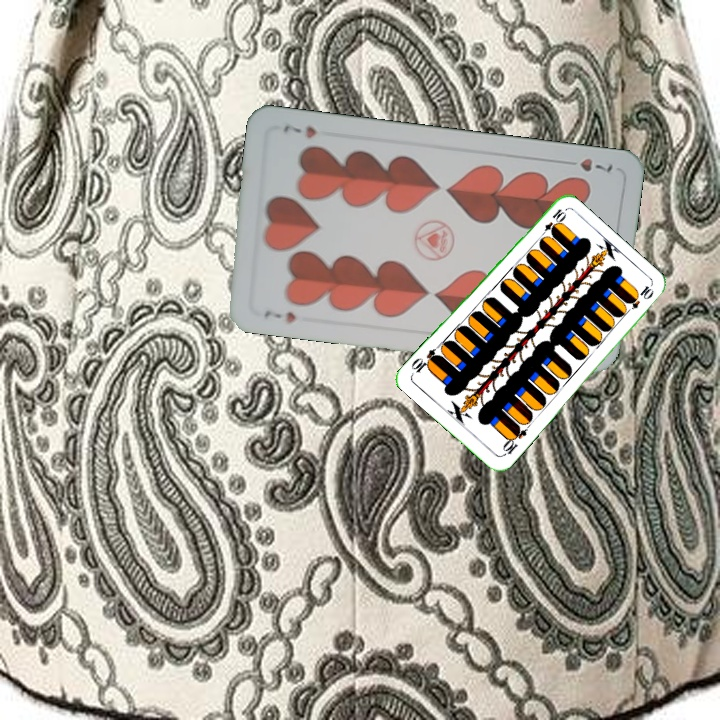E10: (536, 204, 568, 241), (498, 422, 529, 459)
H7: (559, 154, 616, 176), (260, 305, 299, 325)
